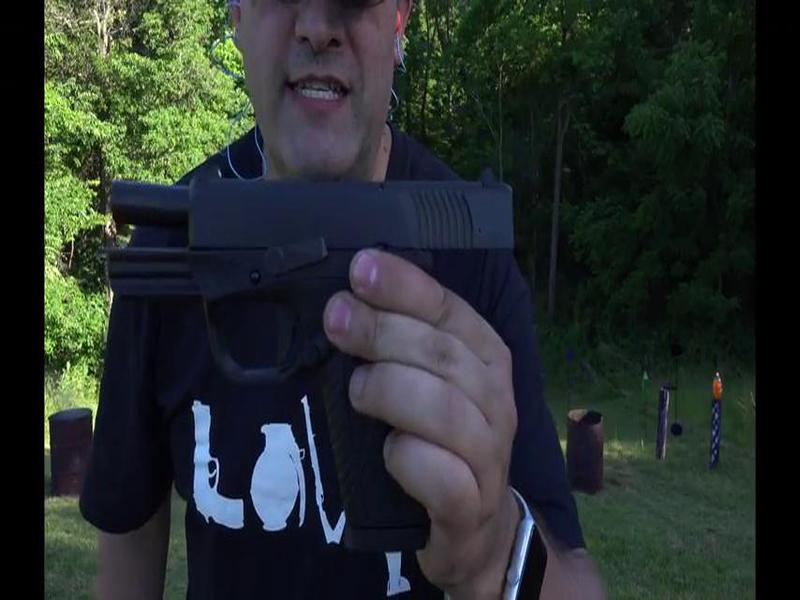Pistola: (104, 161, 527, 544)
